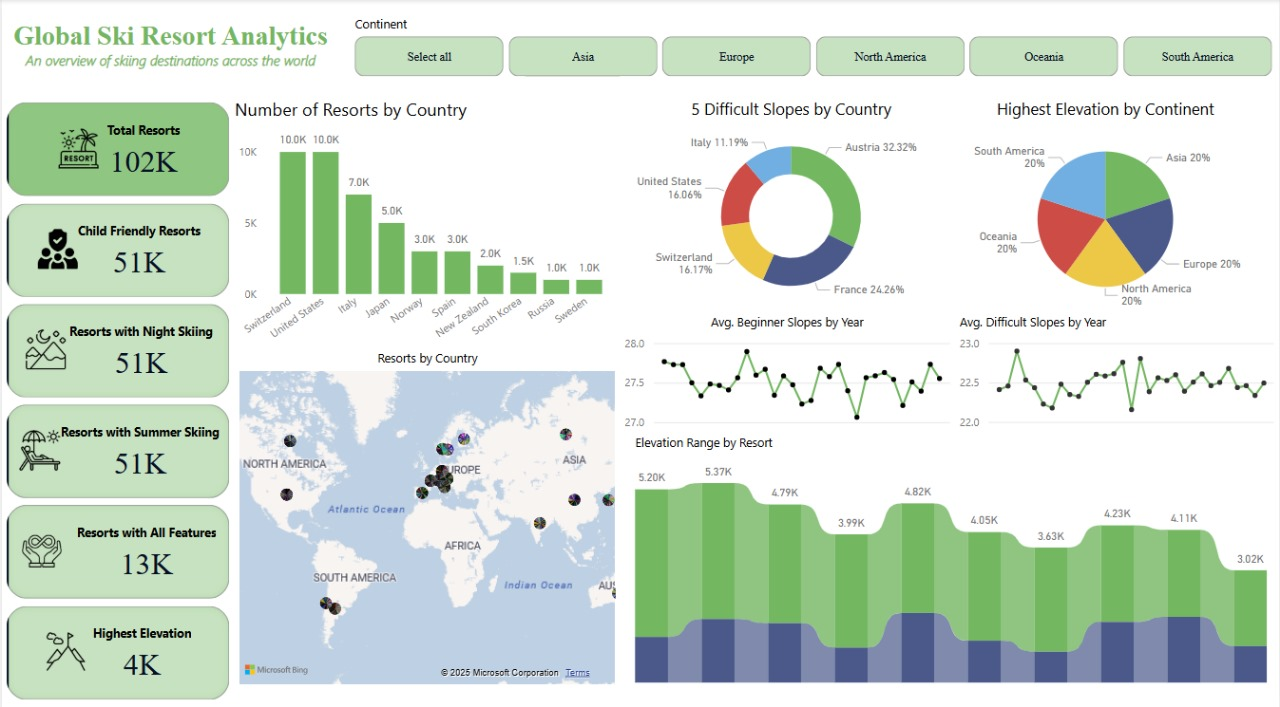

Layout of this report page (visuals, bound fields, positions):
{"tool":"powerbi","page":{"name":"Duplicate of Page 1","canvas":[1280,720],"ordinal":1},"visuals":[{"type":"columnChart","title":"Number of Resorts by Country","fields":{"Category":["Sheet1.Country"],"Y":["CountNonNull(Sheet1.ResortID)"]},"box":[234.3,117.9,385.1,233],"z":0},{"type":"cardVisual","fields":{"Data":["SkiResortsData.Total Resorts","SkiResortsData.Child Friendly Resorts","SkiResortsData.Resorts with Night Skiing","SkiResortsData.Resorts with Summer Skiing","SkiResortsData.Highest Elevation"]},"box":[12.5,82.5,220,610],"z":1000},{"type":"textbox","box":[0,16.2,326.2,82.5],"z":2000},{"type":"stackedAreaChart","title":"Avg. Beginner Slopes by Year","fields":{"Category":["SkiResortsData.DateOpened.Variation.Date Hierarchy.Year"],"Y":["Avg(SkiResortsData.BeginnerSlopes)"]},"box":[619.4,314.9,335.8,122.4],"z":3000},{"type":"stackedAreaChart","title":"Avg. Difficult Slopes by Year","fields":{"Category":["SkiResortsData.DateOpened.Variation.Date Hierarchy.Year"],"Y":["SkiResortsData.Average Difficult Slopes"]},"box":[955.1,315.6,325.2,122.1],"z":4000},{"type":"advancedSlicerVisual","fields":{"Values":["SkiResortsData.Continent"]},"box":[348.8,16.2,931.2,66.2],"z":5000},{"type":"map","title":"Resorts by Country","fields":{"Category":["SkiResortsData.Country"],"Series":["SkiResortsData.ResortName"],"Y":["Min(SkiResortsData.ResortName)"]},"box":[234.3,352.2,385.1,340.3],"z":6000},{"type":"ribbonChart","title":"Elevation Range by Resort","fields":{"Category":["SkiResortsData.ResortName"],"Y":["Avg(SkiResortsData.HighestPoint)","Avg(SkiResortsData.LowestPoint)"]},"box":[629.9,437.3,644.8,255.2],"z":7000},{"type":"pieChart","fields":{"Category":["SkiResortsData.Continent"],"Y":["SkiResortsData.Highest Elevation"]},"box":[952.3,98.8,307.4,216.8],"z":8000},{"type":"donutChart","title":"5 Difficult Slopes by Country","fields":{"Category":["SkiResortsData.Country"],"Y":["Sum(SkiResortsData.DifficultSlopes)"]},"box":[629.8,98.8,322.5,216.8],"z":9000}]}

Visuals, with their boxes in screenshot pixels (x1, y1, x2, y2), scaled from the page's 1280x720 canvas onto the 1280x707 screenshot:
"Number of Resorts by Country" columnChart: (234,116,619,345)
cardVisual - SkiResortsData.Total Resorts x SkiResortsData.Child Friendly Resorts: (12,81,232,680)
textbox: (0,16,326,97)
"Avg. Beginner Slopes by Year" stackedAreaChart: (619,309,955,429)
"Avg. Difficult Slopes by Year" stackedAreaChart: (955,310,1279,430)
advancedSlicerVisual - SkiResortsData.Continent: (349,16,1279,81)
"Resorts by Country" map: (234,346,619,680)
"Elevation Range by Resort" ribbonChart: (630,429,1275,680)
pieChart - SkiResortsData.Continent x SkiResortsData.Highest Elevation: (952,97,1260,310)
"5 Difficult Slopes by Country" donutChart: (630,97,952,310)
